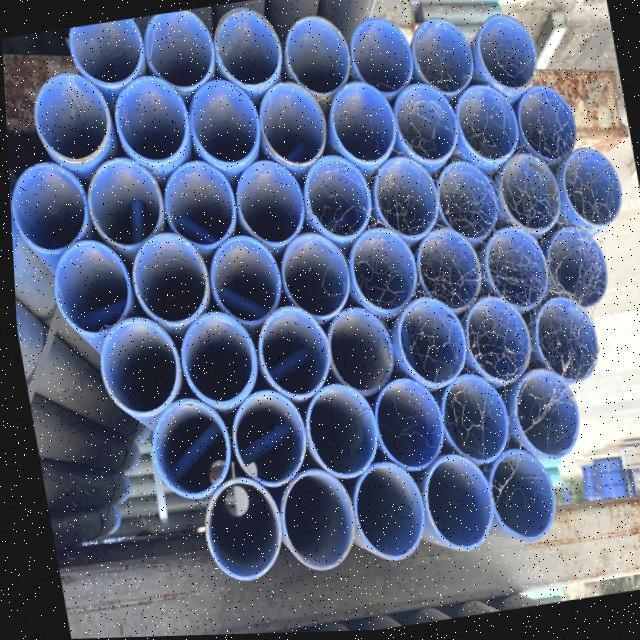pipe: (139, 400, 226, 503), (263, 472, 349, 574), (37, 239, 128, 335), (194, 474, 276, 579), (91, 313, 175, 414), (345, 464, 420, 565), (471, 450, 550, 544), (128, 233, 207, 326), (299, 382, 373, 481), (365, 378, 442, 473), (387, 298, 466, 389), (175, 311, 252, 404), (417, 450, 487, 552), (9, 161, 85, 254), (228, 392, 300, 489), (253, 309, 327, 402), (83, 156, 159, 246), (160, 158, 237, 246), (203, 235, 278, 323), (108, 76, 181, 166), (32, 73, 106, 161), (297, 155, 372, 241), (276, 233, 349, 320), (506, 368, 575, 460), (321, 309, 392, 398), (410, 227, 478, 318), (459, 295, 528, 384), (234, 159, 303, 248), (435, 376, 504, 464), (183, 79, 255, 163), (341, 229, 413, 312), (529, 296, 596, 385), (323, 81, 391, 167), (252, 83, 321, 167), (282, 17, 353, 97), (211, 7, 281, 87), (389, 82, 456, 165), (450, 87, 517, 168), (371, 156, 437, 238), (143, 10, 213, 87), (480, 225, 543, 310), (431, 163, 495, 244), (557, 148, 617, 234), (410, 19, 477, 96), (493, 154, 555, 237), (348, 20, 412, 100), (541, 227, 602, 309), (514, 87, 574, 168), (472, 14, 534, 91), (69, 18, 139, 84)
